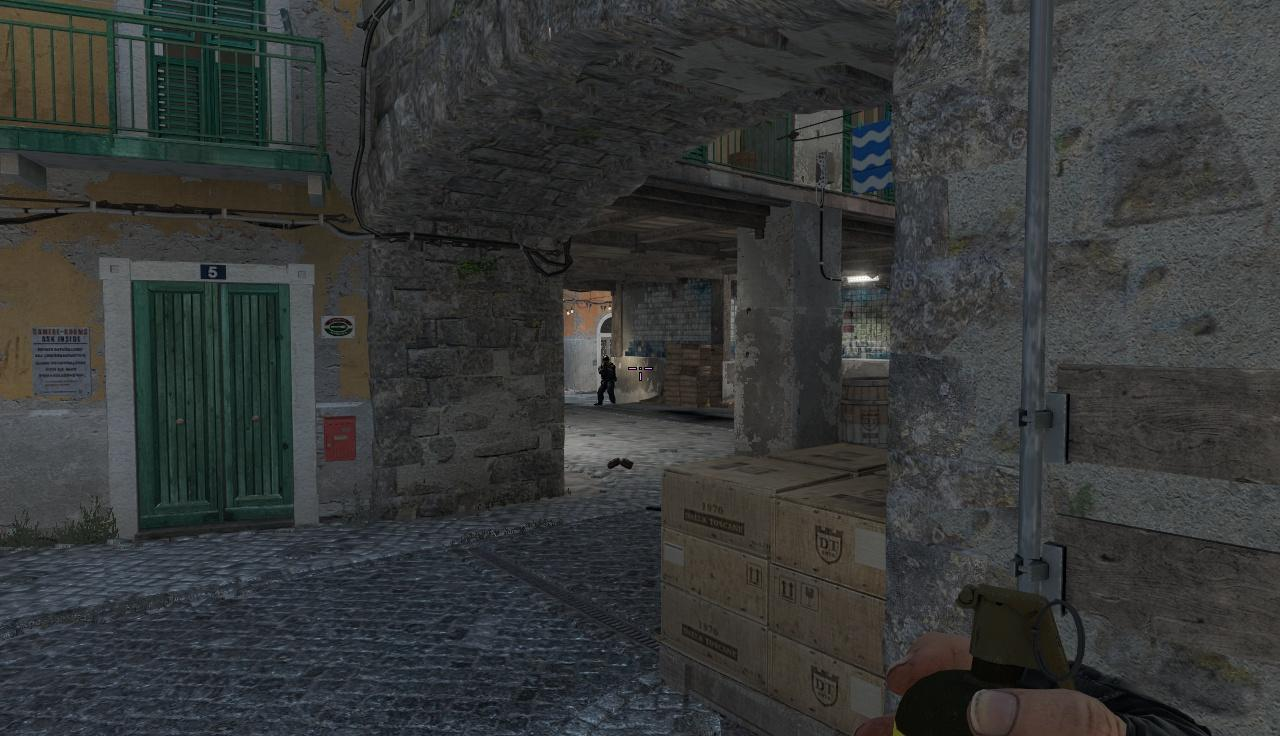ct: (598, 355, 617, 404)
cthead: (602, 355, 610, 366)
